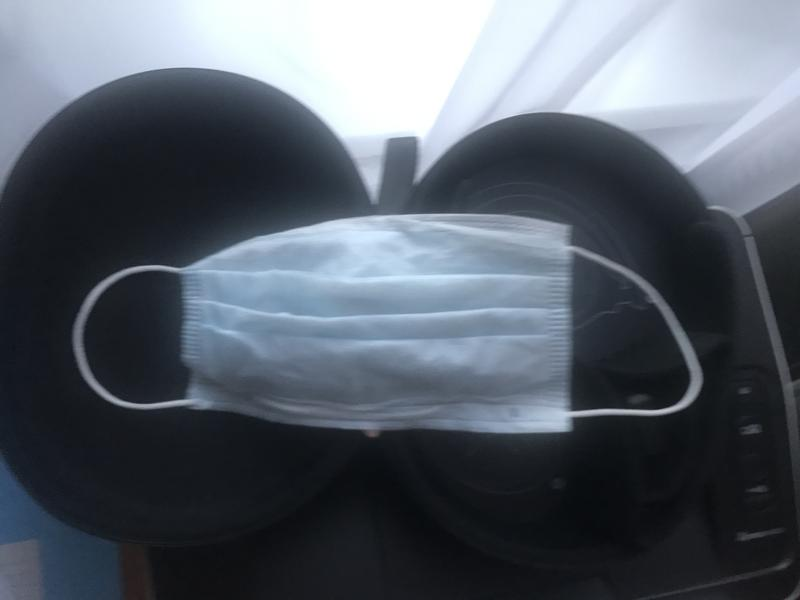medical_mask: (72, 212, 703, 433)
